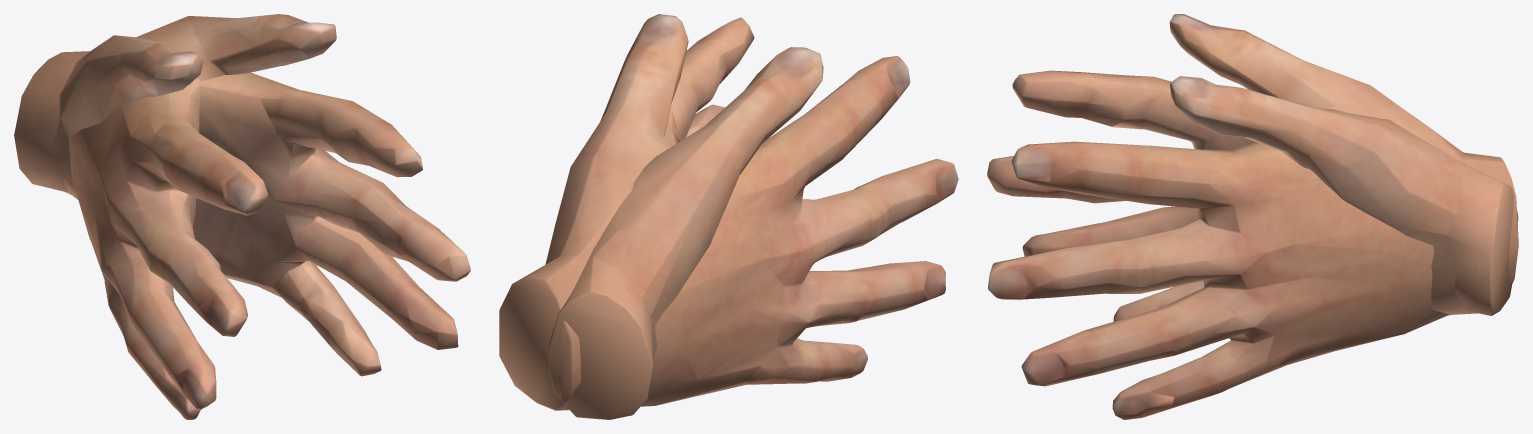
The model's file is custom hands.fbx.
3 views of the same model, side by side, from view 1: azimuth 30°, elevation 25°; view 2: azimuth 150°, elevation 25°; view 3: azimuth 270°, elevation 25° (orthographic). The views are drawn at different scales.
Parts seen in each view (by area): view 1: left_hand.001, right_hand.001; view 2: right_hand.001, left_hand.001; view 3: left_hand.001, right_hand.001.
Part boxes in pixels (<box>): left_hand.001: <box>14,35,470,376</box>; right_hand.001: <box>68,14,336,419</box>; right_hand.001: <box>499,14,958,410</box>; left_hand.001: <box>547,17,823,419</box>; left_hand.001: <box>988,14,1518,419</box>; right_hand.001: <box>987,70,1518,321</box>.
Bounding box in the file's own units: 11.36 × 13.88 × 20.46.
